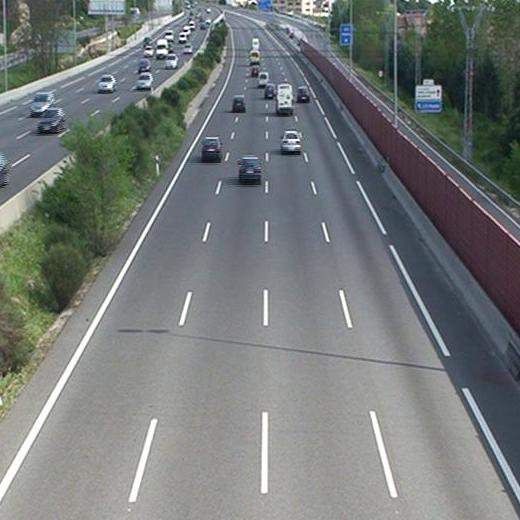car: (236, 156, 262, 184), (199, 137, 221, 161), (281, 131, 302, 153), (230, 95, 247, 113), (296, 87, 311, 104), (264, 85, 275, 99)
van: (275, 84, 295, 115), (258, 71, 268, 87), (250, 50, 259, 64)
